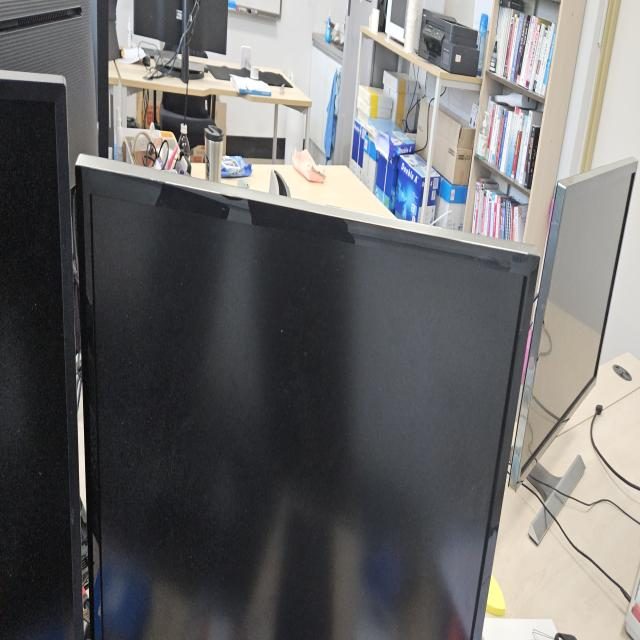Monitor: (73, 146, 540, 636)
